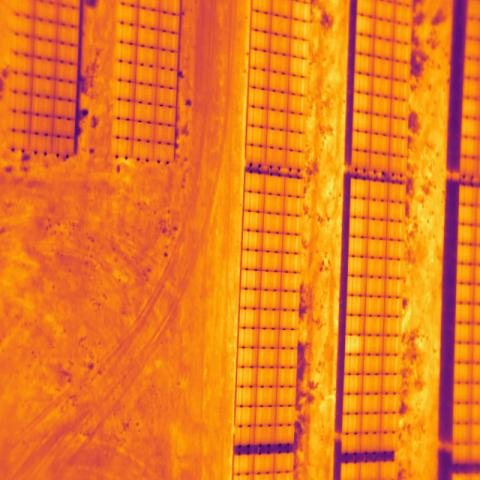fault: (345, 335, 363, 355)
